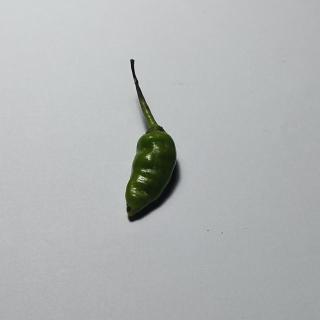Cabai Hijau: (121, 55, 185, 227)
